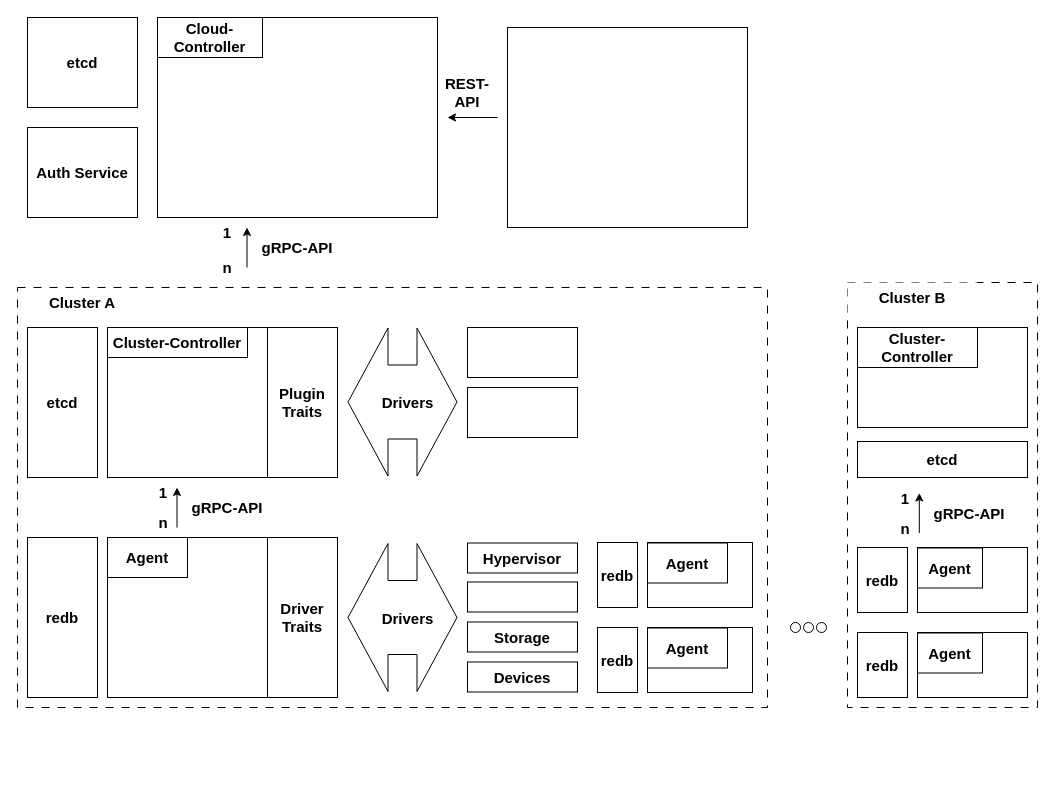
Some shapes in this 1055 by 795 pixel diagram are drawn without their labels. Here are the shapes that lost their labels. From the top down, the centre of each, then its label:
At (627,127): "Command Line Interface".
At (522,352): "Storage Backend".
At (522,412): "Networking Backend".
At (522,596): "Networking".
